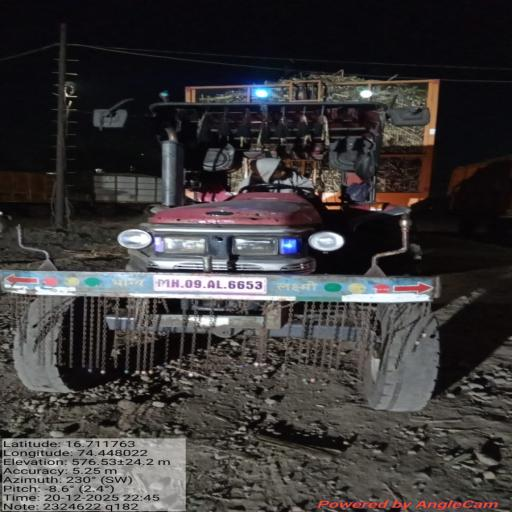number_plate: (142, 270, 290, 300)
